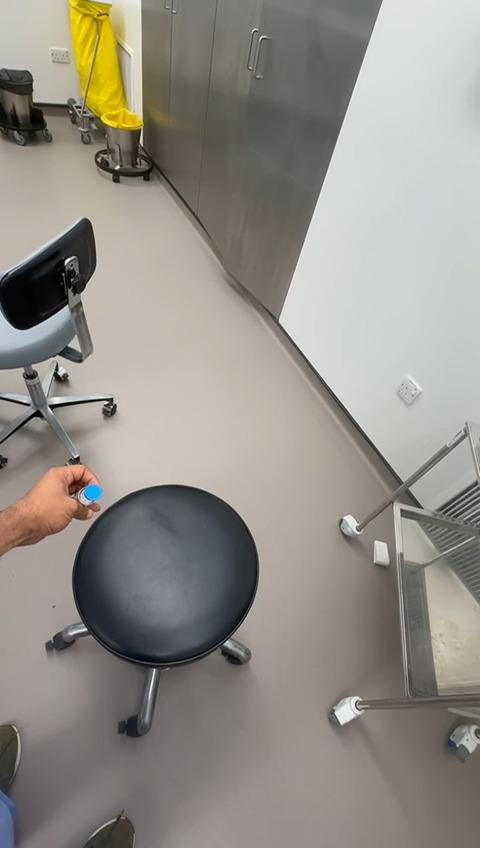cefazolin: (76, 484, 103, 506)
